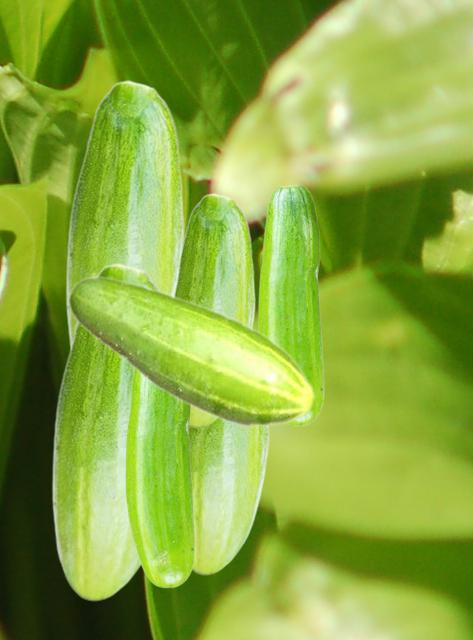cucumber: (67, 275, 315, 428), (51, 263, 161, 600), (65, 80, 183, 351), (176, 193, 254, 427), (258, 184, 323, 425), (125, 370, 194, 587), (189, 420, 268, 574)
